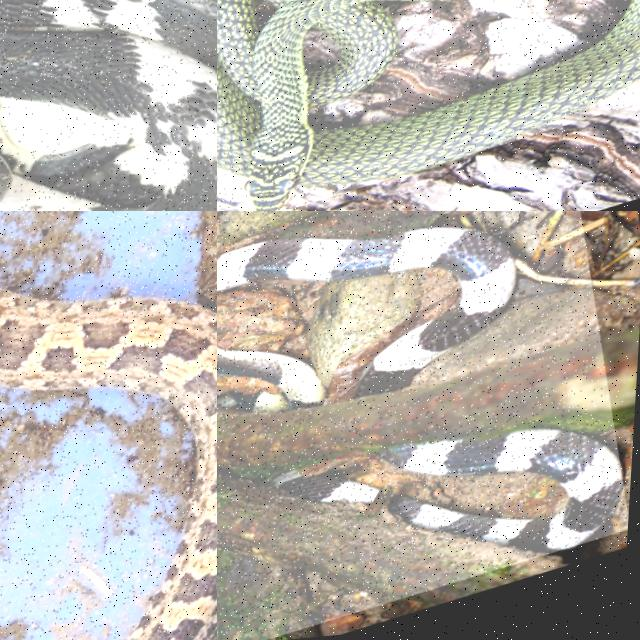Bungarus candidus: (217, 227, 515, 396)
Chrysopelea ornata: (217, 0, 639, 209)
Naja siamensis: (0, 0, 216, 210)
Ovophis monticola: (0, 288, 216, 639)
